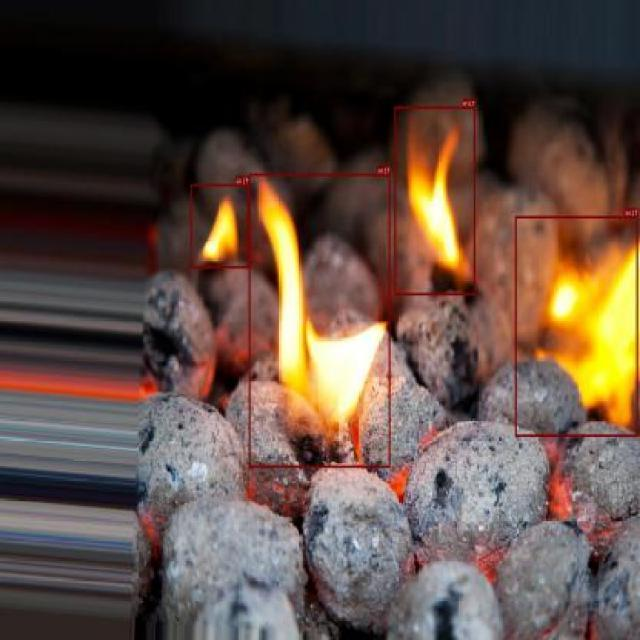Fire: (249, 173, 391, 467), (516, 216, 638, 436), (394, 107, 476, 296), (190, 184, 250, 268)
